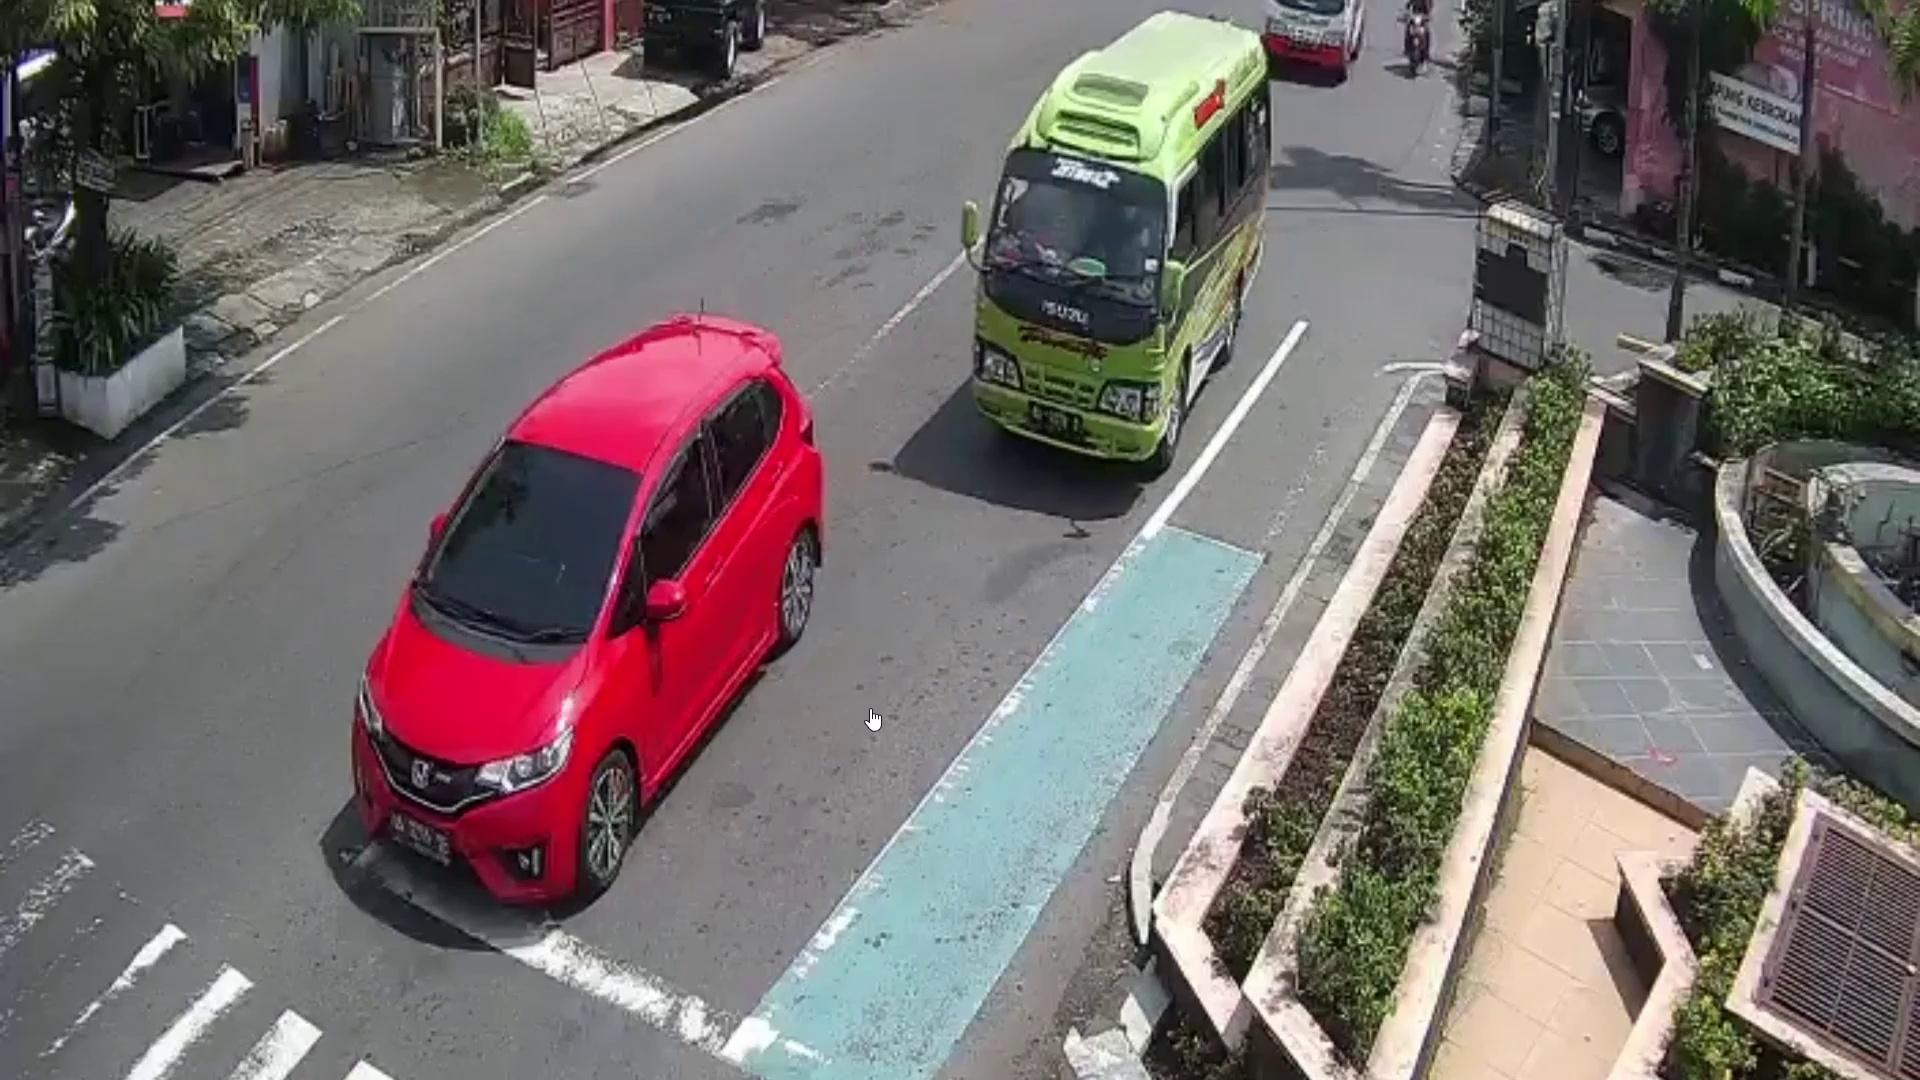bus: (968, 7, 1269, 473)
car: (345, 309, 828, 910)
motorbike: (1400, 11, 1432, 78)
truck: (1266, 0, 1369, 84)
